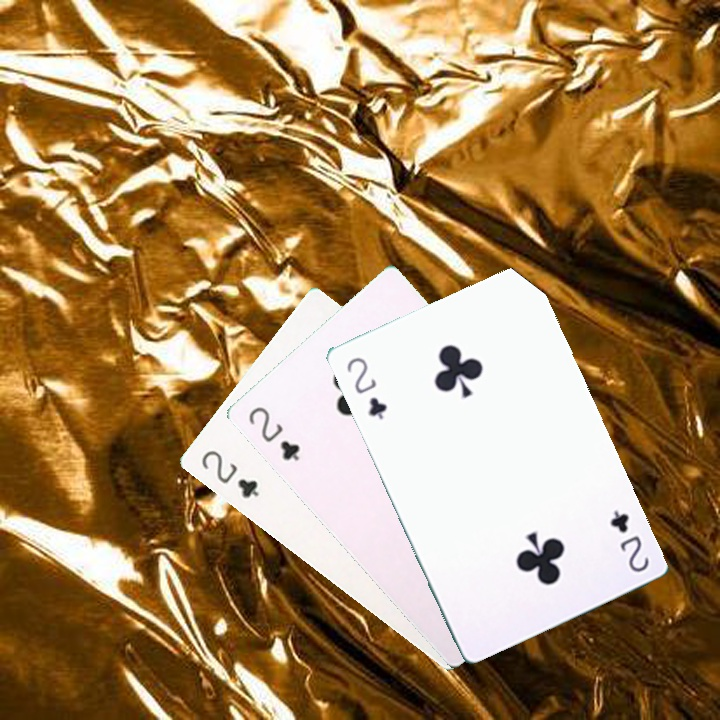2c: (244, 402, 303, 464), (197, 445, 262, 501), (342, 353, 390, 422), (605, 505, 652, 575)
